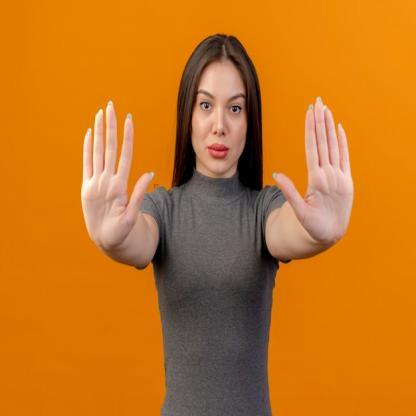stop: (272, 94, 358, 248), (80, 97, 156, 256)
